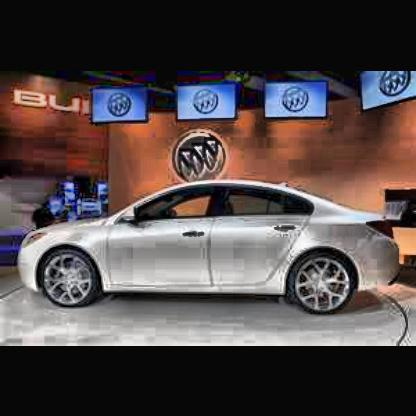Buick Regal GS 2012: (19, 182, 400, 317)
